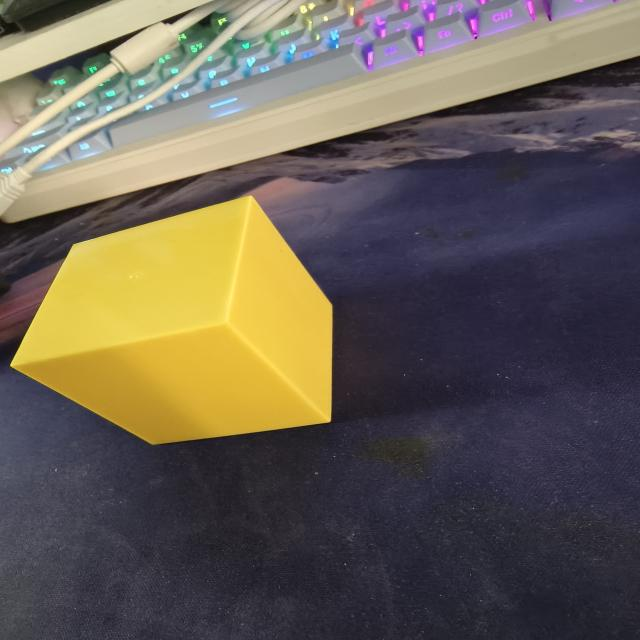yellow: (9, 192, 342, 451)
